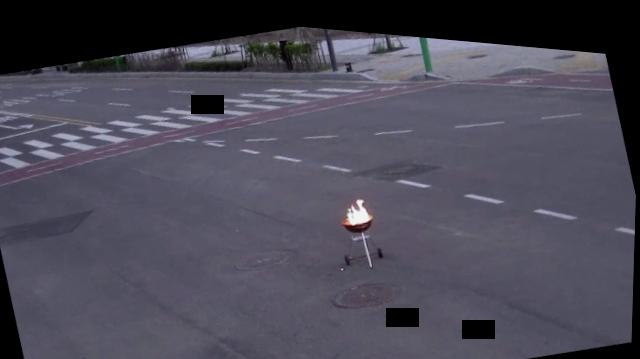fire: (343, 189, 373, 220)
